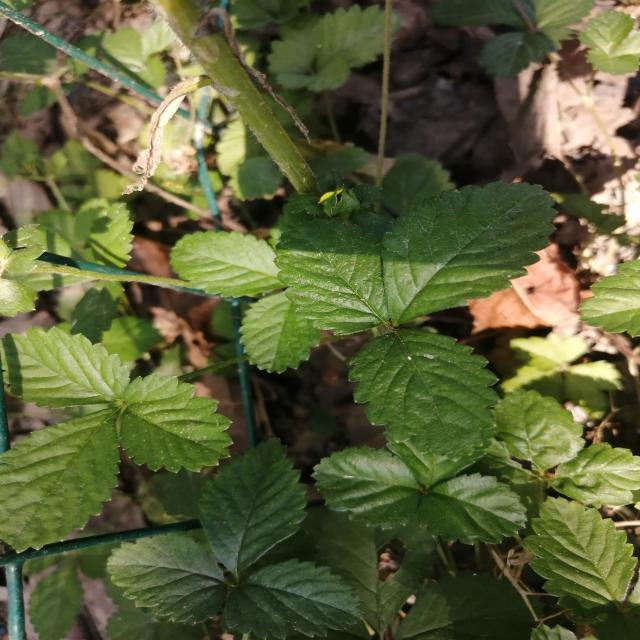Mock_strawberry: (232, 168, 560, 465), (0, 319, 250, 545)
